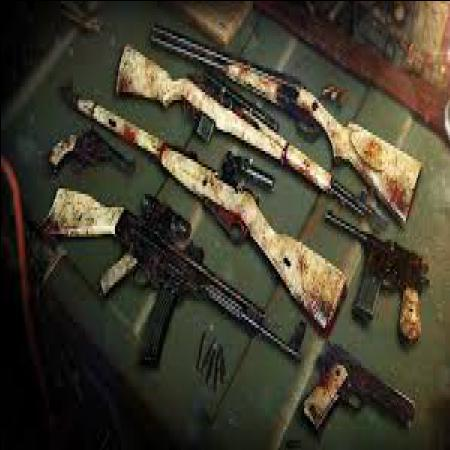2: (31, 166, 295, 450), (64, 72, 336, 310), (143, 8, 426, 220), (110, 25, 385, 234), (317, 203, 439, 359), (37, 107, 132, 188)
Pistol: (296, 324, 430, 450)
